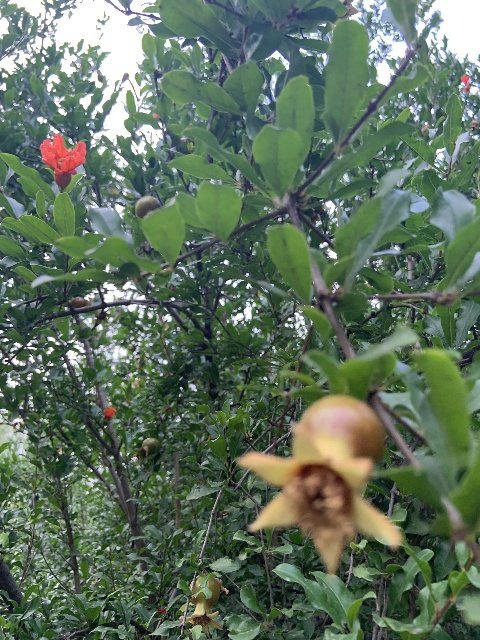early-fruit: (235, 394, 403, 574)
flower: (39, 132, 87, 188), (103, 406, 115, 420)
mid-growth: (179, 573, 224, 632), (133, 437, 158, 462), (134, 195, 161, 218)
